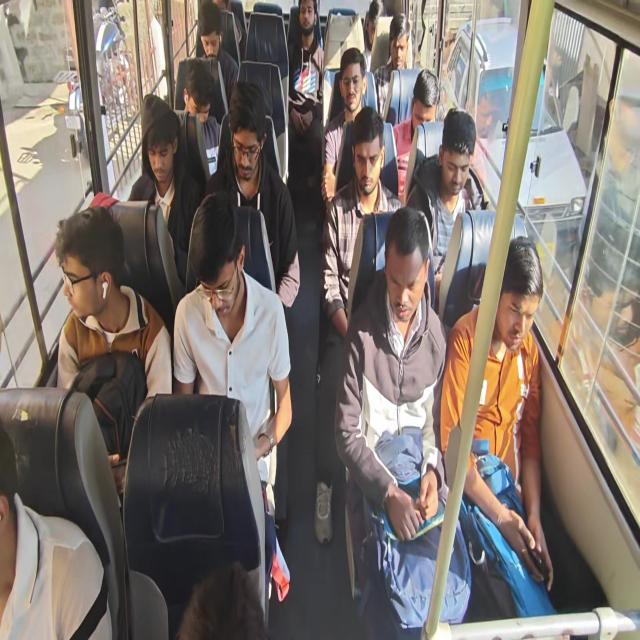person: (186, 205, 251, 320), (58, 214, 127, 319), (486, 244, 546, 356), (145, 100, 181, 182), (391, 239, 427, 319), (229, 107, 263, 181), (352, 125, 386, 196), (183, 66, 216, 130), (445, 121, 473, 195), (413, 71, 443, 135), (340, 54, 366, 112), (198, 5, 222, 61), (388, 24, 412, 75), (294, 3, 322, 45), (363, 1, 387, 46)
